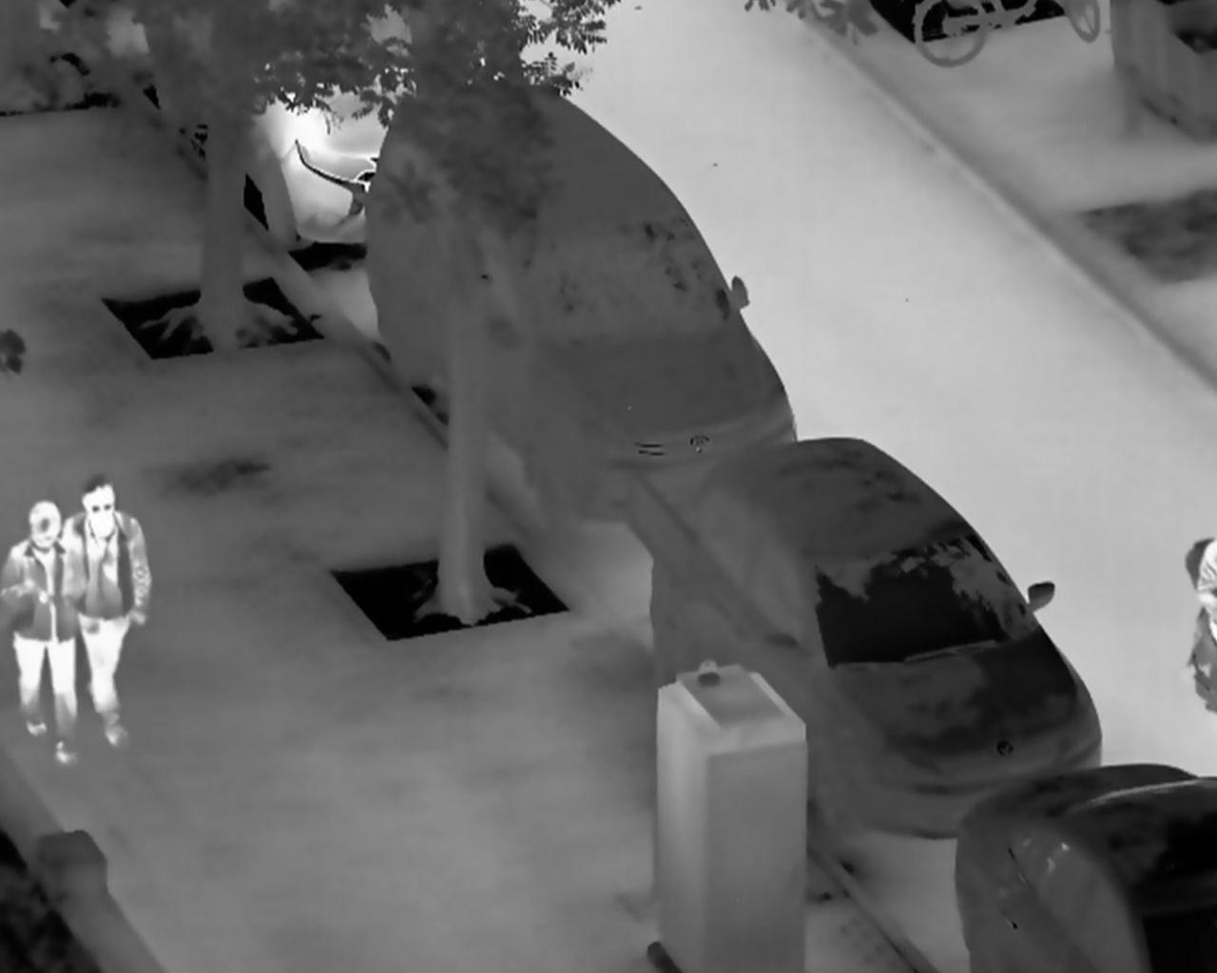person: (62, 475, 152, 752)
